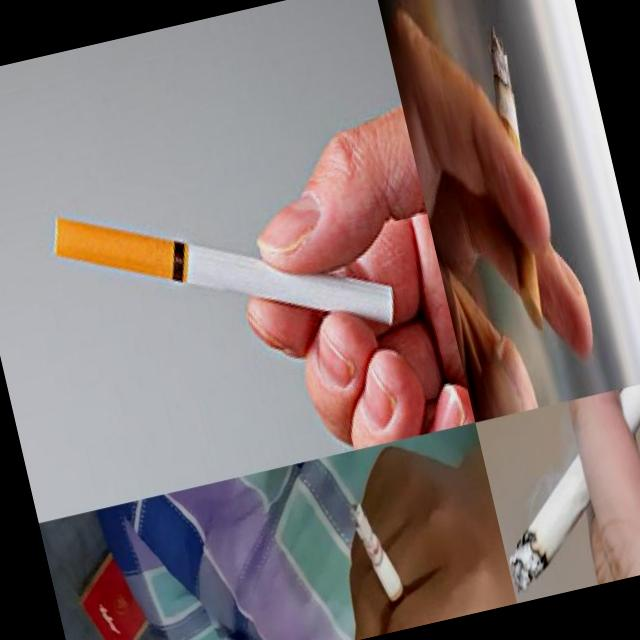smoke: (40, 138, 406, 398), (475, 379, 640, 596), (460, 23, 570, 334), (348, 494, 419, 634)
